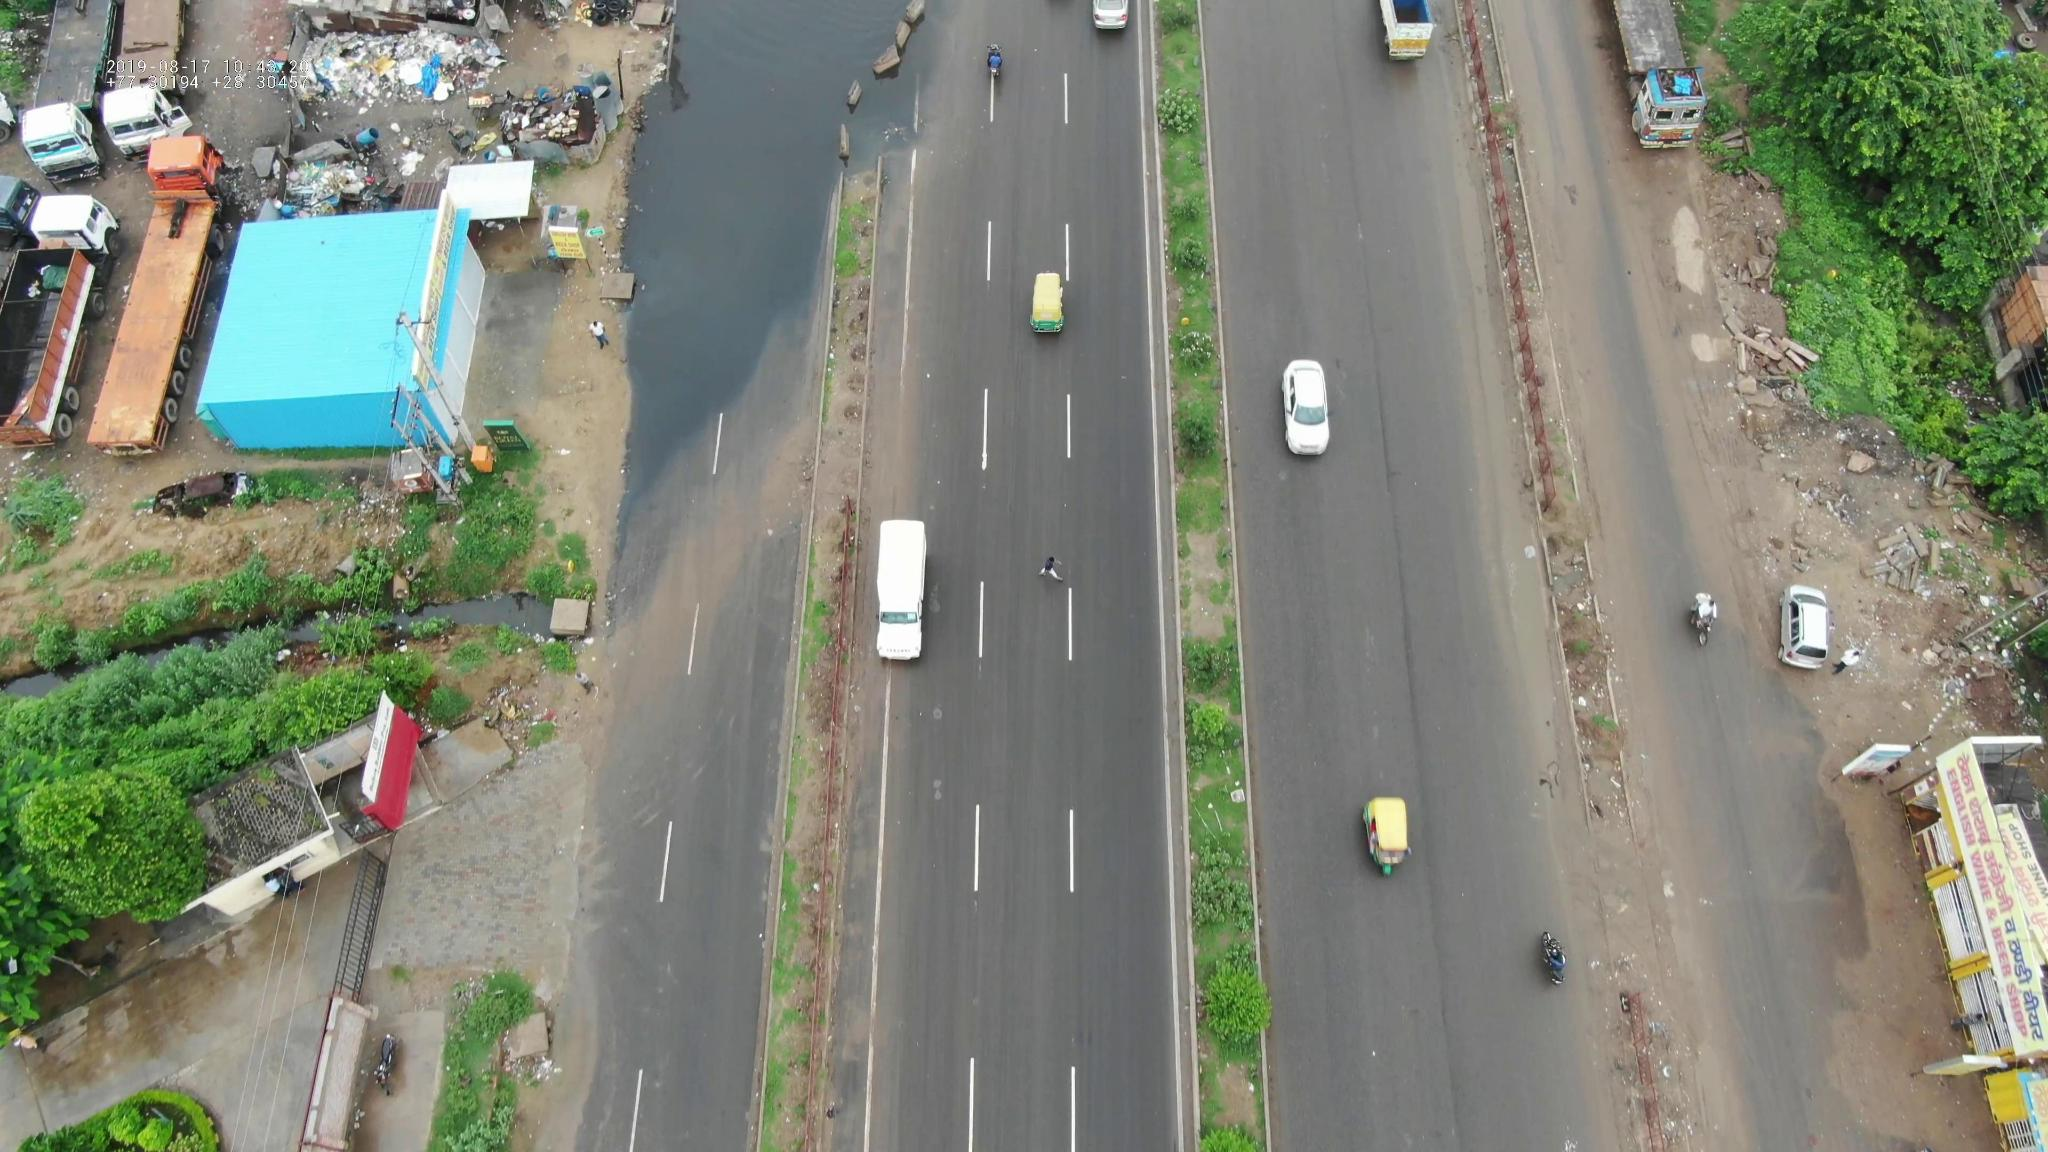Potholes: (924, 664, 961, 810), (926, 525, 969, 630)
Waterlogging: (594, 1, 935, 525)
